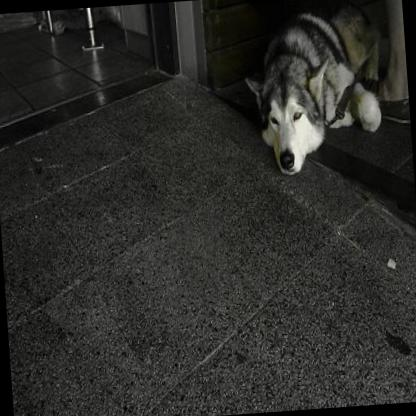Eskimo_dog: (239, 0, 397, 178)
